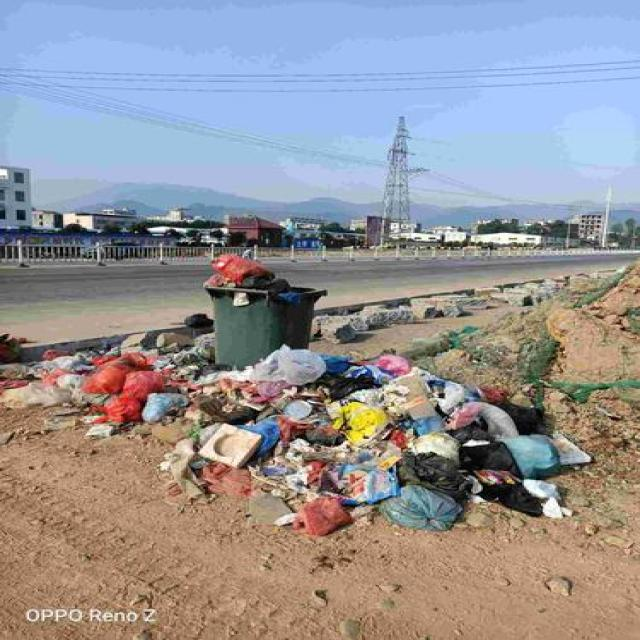garbage: (5, 318, 591, 536)
overflow: (202, 252, 324, 365)
